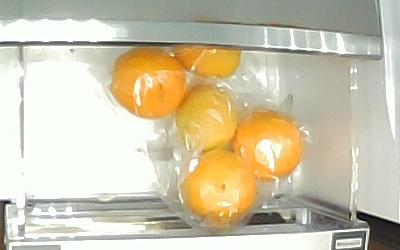orange_vinyl: (180, 149, 257, 226), (229, 107, 304, 183), (110, 47, 186, 119), (174, 83, 238, 152), (172, 47, 241, 78)
